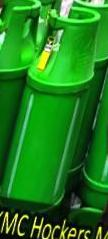cylinder: (1, 1, 108, 239)
